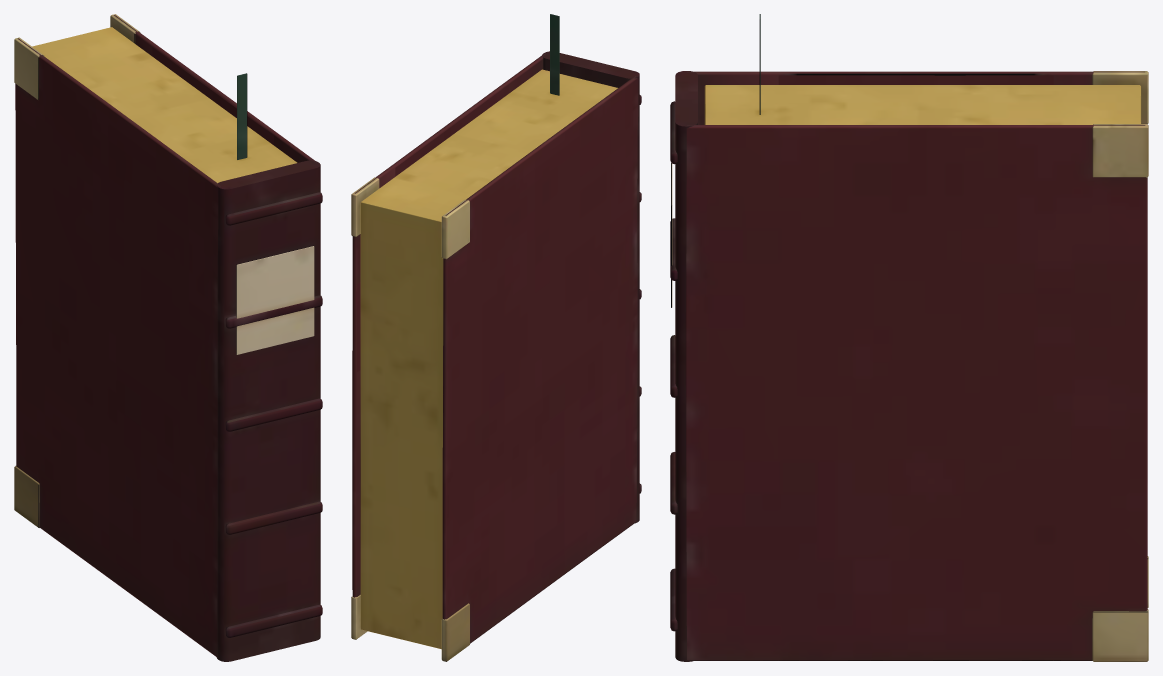
The model's file is ledger-c.glb.
The picture shows the model from 3 angles, left to right: view 1: azimuth 30°, elevation 25°; view 2: azimuth 150°, elevation 25°; view 3: azimuth 270°, elevation 25°; orthographic projection. The views are drawn at different scales.
Visible parts, largest first — view 1: ledger; view 2: ledger; view 3: ledger.
Boxes of the visible parts, x1=… form: ledger: x1=14, y1=14, x2=322, y2=661; ledger: x1=351, y1=14, x2=641, y2=661; ledger: x1=670, y1=14, x2=1148, y2=661.
Bounding box in the file's own units: 0.0712 × 0.364 × 0.2542.
Materials: 1 (1 with a texture image).
